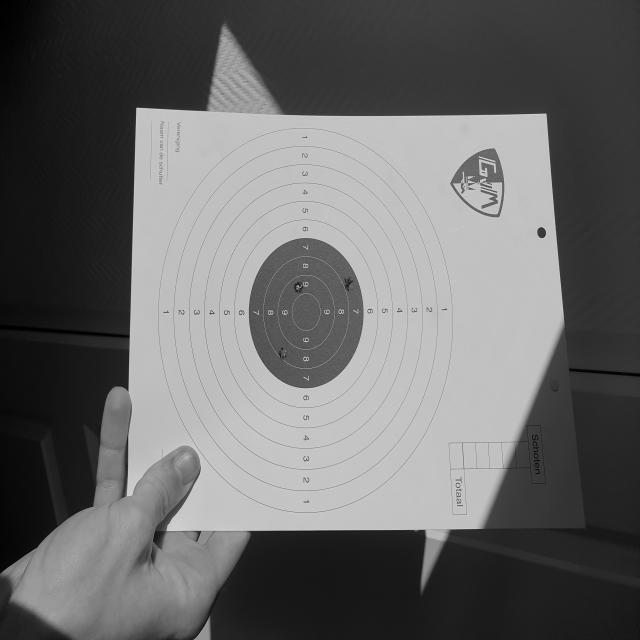8: (344, 276, 354, 292), (278, 347, 287, 361)
9: (294, 282, 303, 294)
Target: (157, 125, 454, 517)
black_contour: (249, 240, 365, 388)
